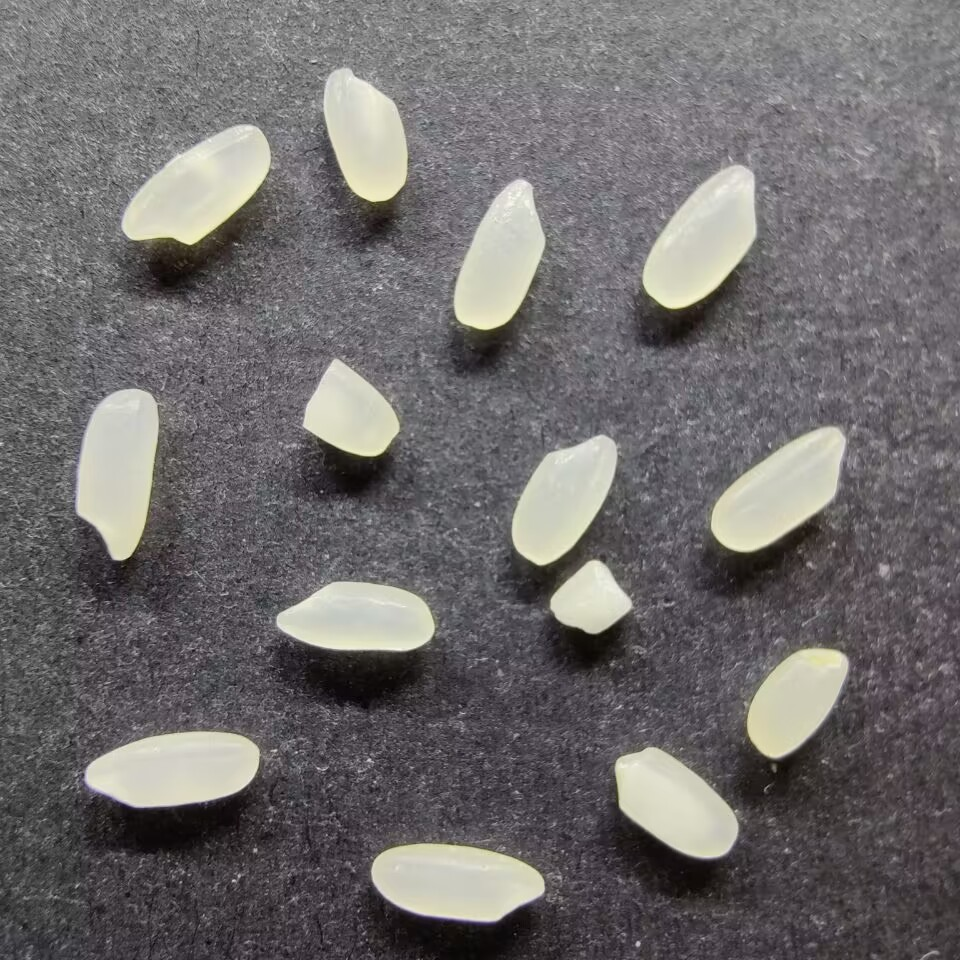broken: (298, 355, 401, 458), (545, 558, 636, 636)
rice: (118, 122, 271, 246), (708, 424, 848, 553), (639, 162, 759, 310), (73, 387, 161, 561), (509, 431, 618, 567), (612, 745, 739, 860), (451, 178, 546, 331), (369, 841, 546, 923), (81, 729, 261, 809), (320, 65, 409, 203), (273, 579, 437, 652), (744, 647, 850, 759)
